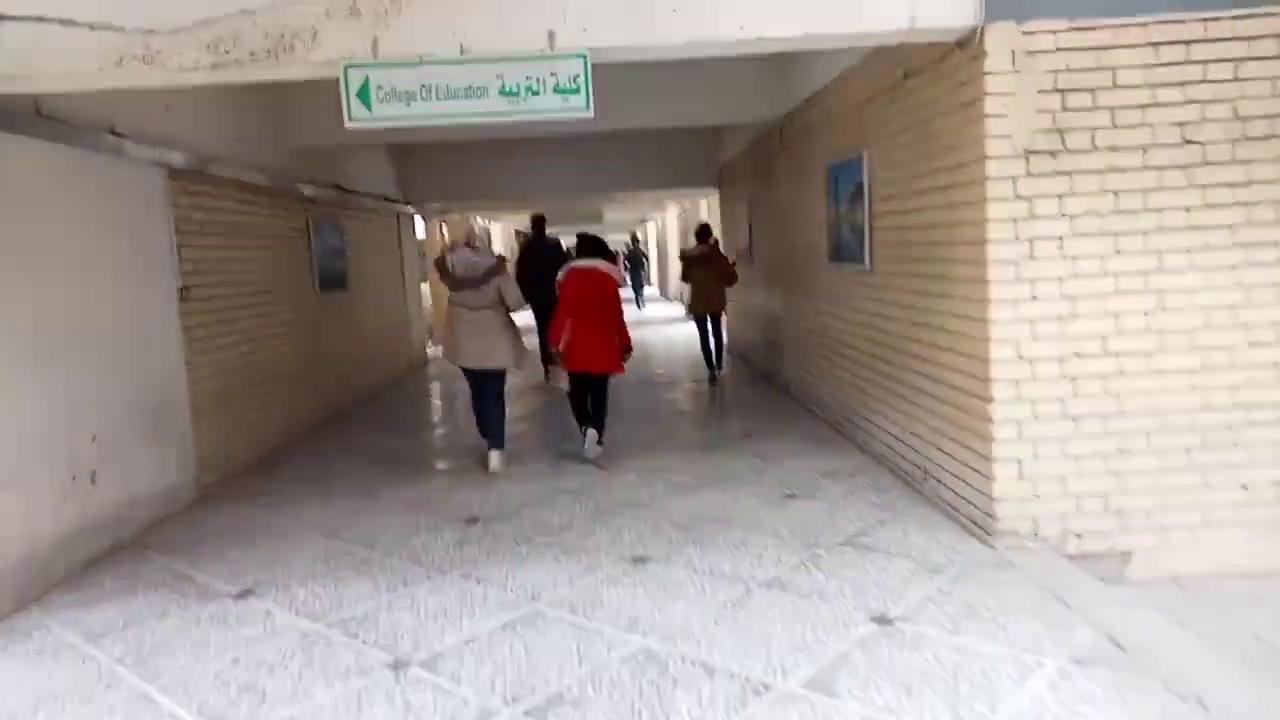person: (432, 218, 528, 473), (546, 233, 633, 448), (678, 222, 739, 384), (515, 213, 569, 382), (623, 232, 649, 310)
